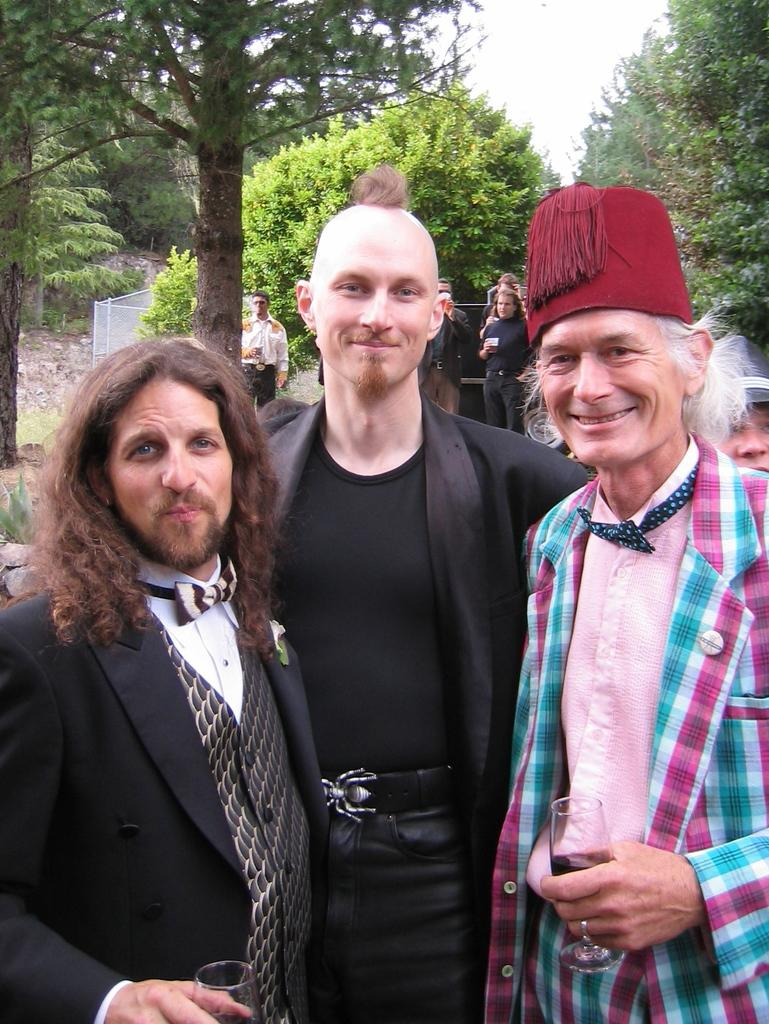Hat: (522, 178, 694, 335), (709, 330, 768, 404)
